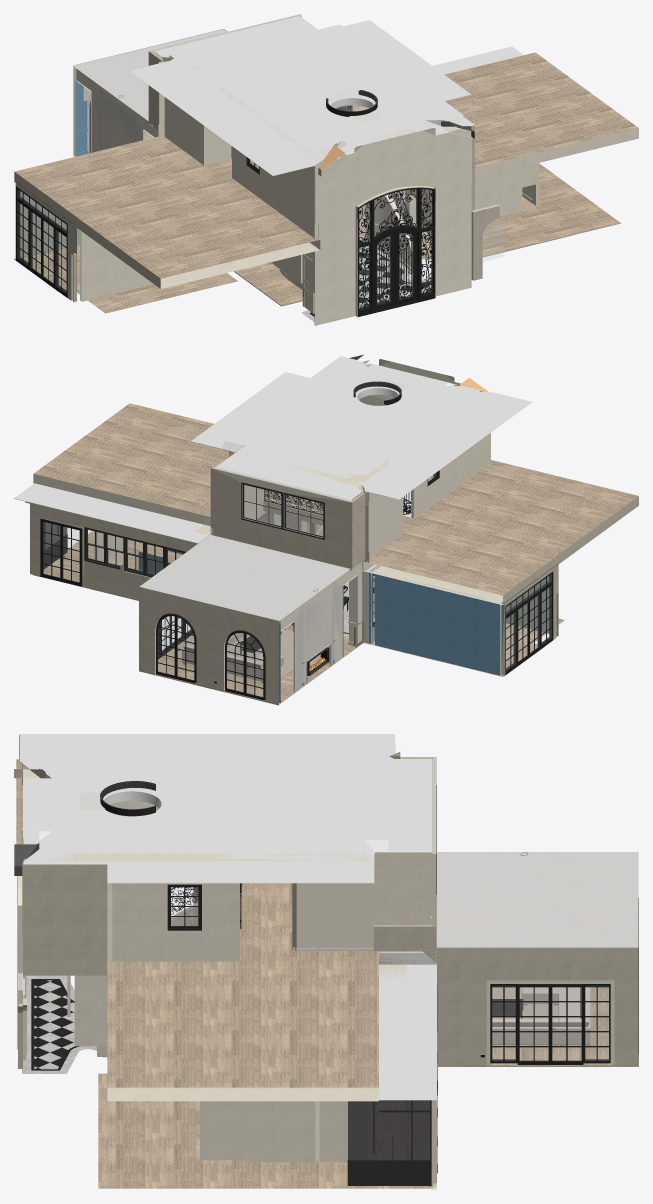
Rendered from family-room-cf785f6adeb4.glb.
3 renders of one model, top to bottom at view 1: azimuth 30°, elevation 25°; view 2: azimuth 150°, elevation 25°; view 3: azimuth 270°, elevation 25°, orthographic. The views are drawn at different scales.
Visible parts, largest first — view 1: family-room-look-2575515a05775d9e, family-room-look-e8793759323e04f0, family-room-look-9d91b47435c6fb33, family-room-look-34525a54e63b733b, family-room-look-3b0077416469e01b, family-room-look-d5a4a1b5d3594c04, family-room-look-5f56640b372ec5ce, family-room-look-746250f96522f643, family-room-4a969f5cc1ae3dfe, family-room-look-bce662e26d5a5947, family-room-look-d999b7e09afcf2f4, family-room-9d80b152e3f2ea10 (+30 smaller); view 2: family-room-look-2575515a05775d9e, family-room-look-e8793759323e04f0, family-room-look-9d91b47435c6fb33, family-room-4a969f5cc1ae3dfe, family-room-look-b19b106fc304963c, family-room-look-245f595ae2832e16, family-room-969b861f9850351e, family-room-look-bfb9fa537cd11d1d, family-room-look-9a0e9ee9b2a451d7, family-room-9d80b152e3f2ea10, family-room-look-5f56640b372ec5ce, family-room-55ff1dfd7b659ec1 (+26 smaller); view 3: family-room-look-2575515a05775d9e, family-room-look-e8793759323e04f0, family-room-look-9d91b47435c6fb33, family-room-4a969f5cc1ae3dfe, family-room-look-3b0077416469e01b, family-room-e706aa16b4547c37, family-room-look-62353aa10fc57f23, family-room-50d54560d247b537, family-room-look-c51ecd664a3b22a3, family-room-look-9a0e9ee9b2a451d7, family-room-look-5f56640b372ec5ce, family-room-look-69af8f587252f9fa (+28 smaller).
Part boxes in pixels (box(x1,y1,x2,y2)): family-room-look-2575515a05775d9e: box(14, 52, 638, 288); family-room-look-e8793759323e04f0: box(180, 23, 463, 157); family-room-look-9d91b47435c6fb33: box(130, 16, 474, 175); family-room-look-34525a54e63b733b: box(314, 126, 471, 244); family-room-look-3b0077416469e01b: box(14, 163, 620, 306); family-room-look-d5a4a1b5d3594c04: box(314, 208, 471, 325); family-room-look-5f56640b372ec5ce: box(254, 81, 404, 139); family-room-look-746250f96522f643: box(232, 146, 317, 238); family-room-4a969f5cc1ae3dfe: box(73, 29, 226, 120); family-room-look-bce662e26d5a5947: box(357, 187, 435, 316); family-room-look-d999b7e09afcf2f4: box(80, 230, 153, 301); family-room-9d80b152e3f2ea10: box(76, 69, 158, 152); family-room-look-2575515a05775d9e: box(33, 403, 638, 604); family-room-look-e8793759323e04f0: box(222, 356, 481, 486); family-room-look-9d91b47435c6fb33: box(191, 362, 532, 500); family-room-4a969f5cc1ae3dfe: box(139, 534, 349, 621); family-room-look-b19b106fc304963c: box(375, 573, 501, 675); family-room-look-245f595ae2832e16: box(210, 467, 352, 568); family-room-969b861f9850351e: box(139, 587, 280, 704); family-room-look-bfb9fa537cd11d1d: box(30, 502, 197, 600); family-room-look-9a0e9ee9b2a451d7: box(14, 483, 208, 543); family-room-9d80b152e3f2ea10: box(280, 562, 362, 690); family-room-look-5f56640b372ec5ce: box(324, 377, 464, 430); family-room-55ff1dfd7b659ec1: box(281, 562, 362, 692); family-room-look-2575515a05775d9e: box(16, 759, 378, 1101); family-room-look-e8793759323e04f0: box(39, 756, 388, 861); family-room-look-9d91b47435c6fb33: box(19, 734, 431, 883); family-room-4a969f5cc1ae3dfe: box(436, 852, 638, 948); family-room-look-3b0077416469e01b: box(98, 920, 436, 1188); family-room-e706aa16b4547c37: box(437, 948, 633, 1065); family-room-look-62353aa10fc57f23: box(23, 865, 112, 975); family-room-50d54560d247b537: box(436, 852, 638, 948); family-room-look-c51ecd664a3b22a3: box(112, 883, 239, 961); family-room-look-9a0e9ee9b2a451d7: box(379, 964, 436, 1100); family-room-look-5f56640b372ec5ce: box(83, 756, 196, 825); family-room-look-69af8f587252f9fa: box(292, 883, 373, 947).
Bounding box in the file's own units: 21.02 × 7.02 × 16.88.
Materials: 72 (13 with a texture image).
